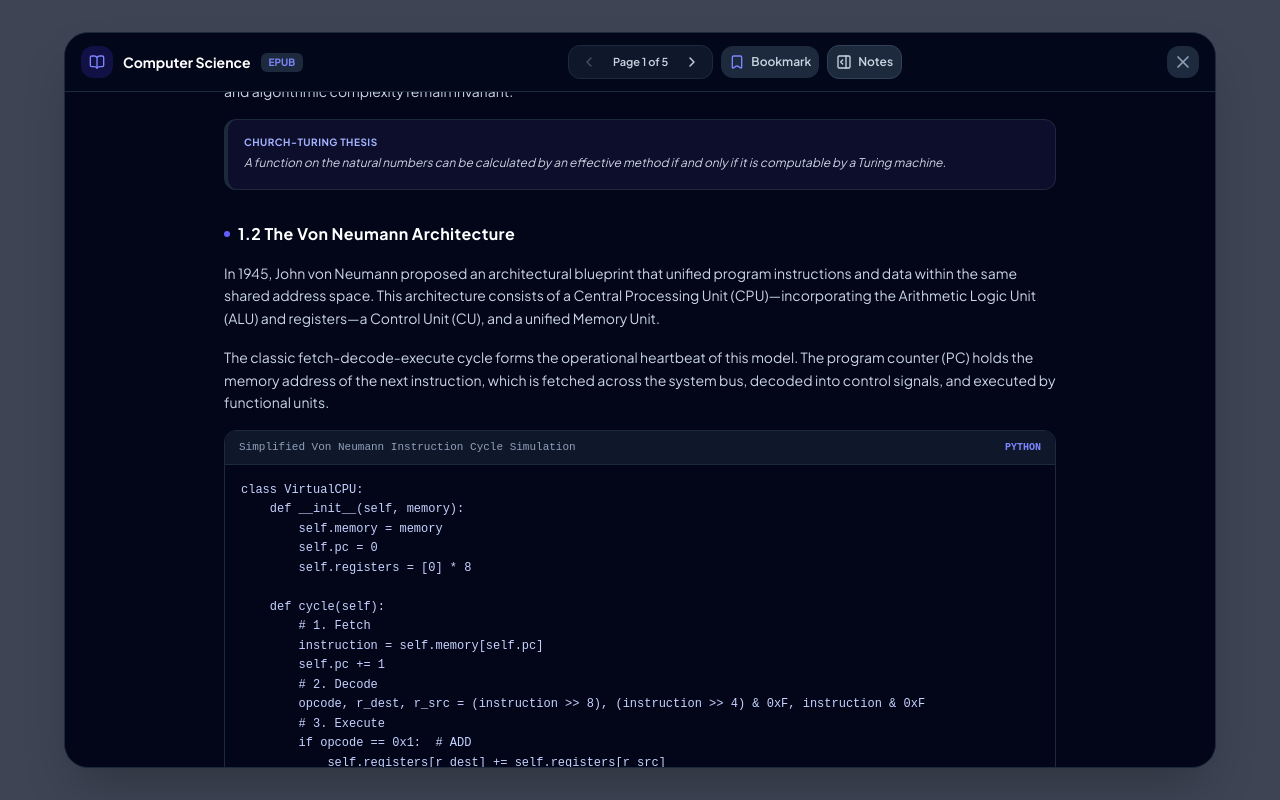
General Dashboard Consolidated Suite › Digital Reader & Modernized General Dashboard › Bug Fix: Book Reader Content Rendering › allows chapter pagination (Next Page / Previous Page) in structured reader
This screenshot has width=1280, height=800.
Step 1. Click the button named "Next Page" → click(692, 62), box [680,50,704,74]
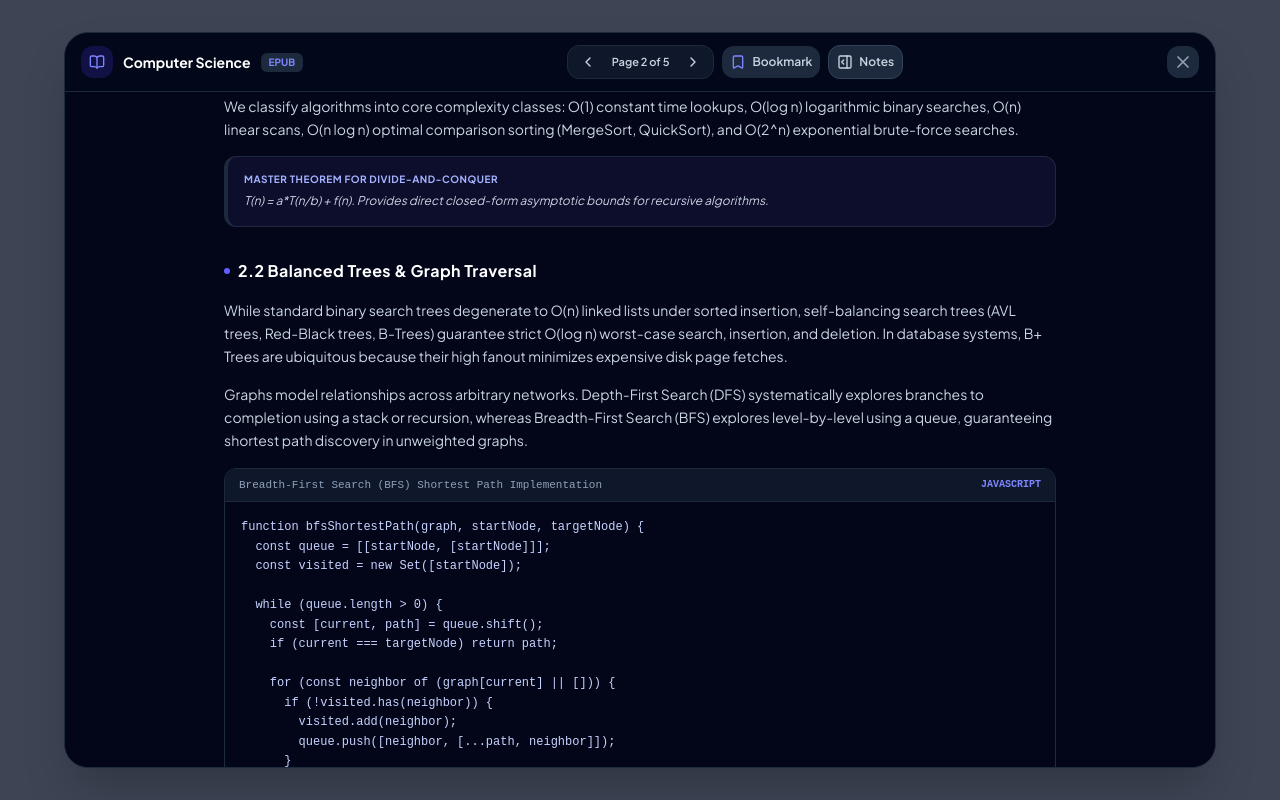
Expected: the text "Page 2 of 5" is shown, [608,55,674,69]
Step 2. Click the button named "Previous Page" → click(588, 62), box [576,50,600,74]
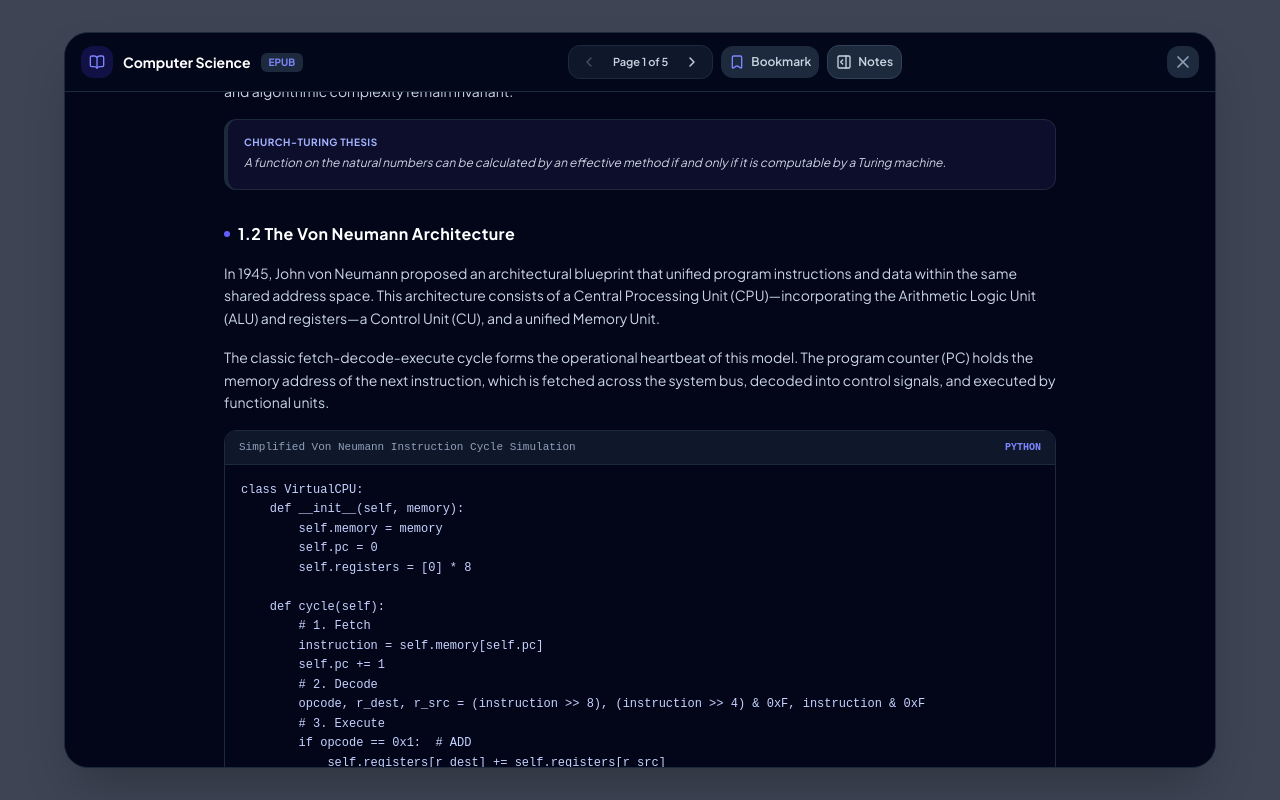
Expected: the text "Page 1 of 5" is shown, [609,55,672,69]
